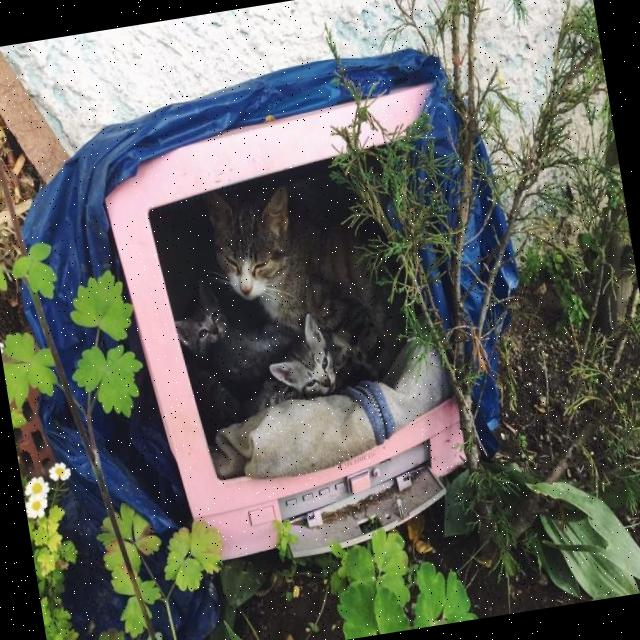cat: (200, 170, 408, 378), (164, 253, 304, 391), (240, 308, 342, 411)
